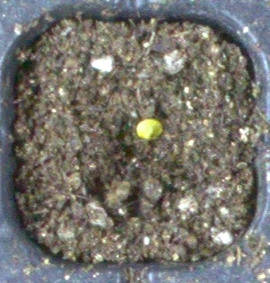pepper seed: (54, 47, 219, 188)
